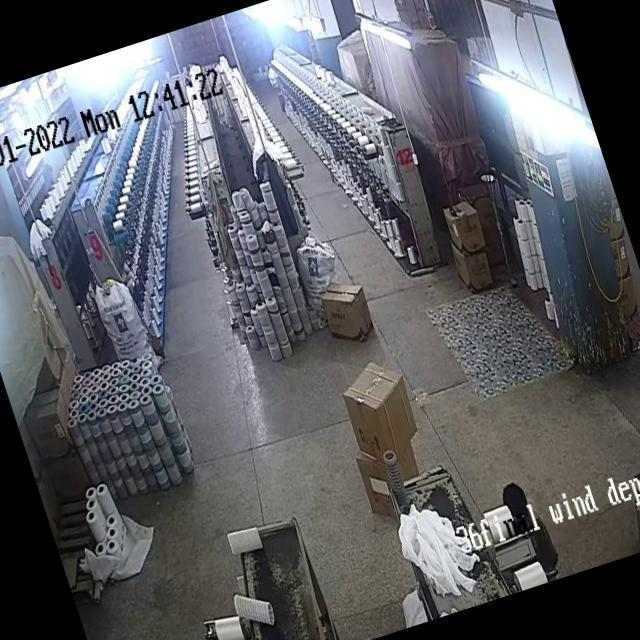person: (502, 488, 548, 554)
